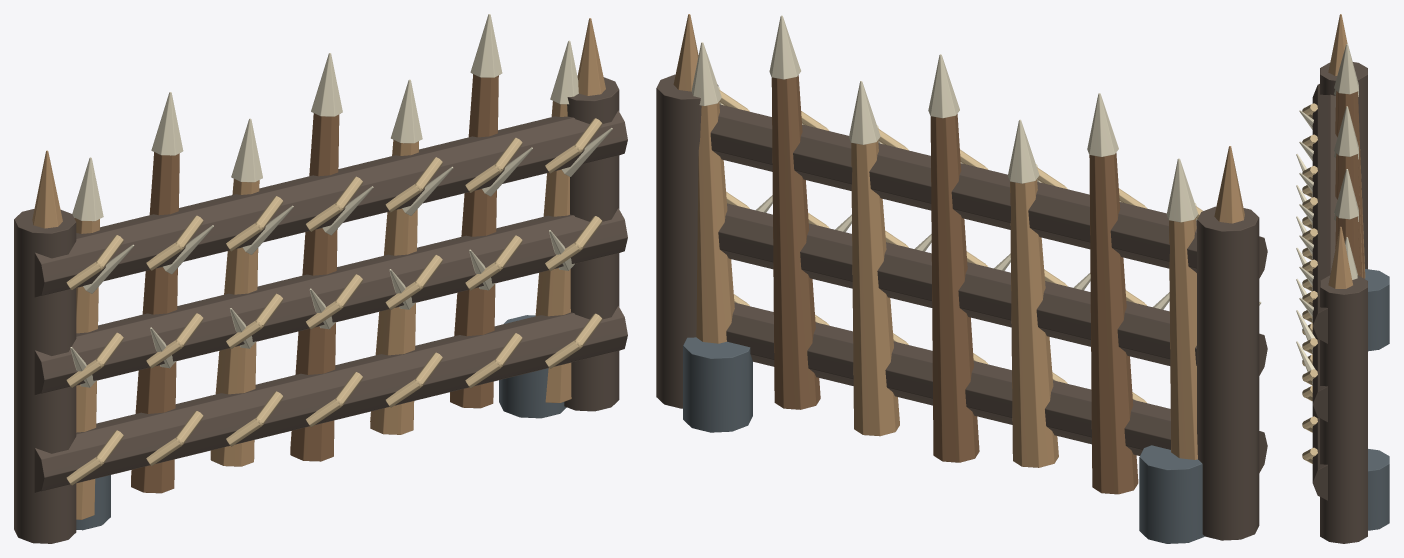
File: 16_Wooden_Spike_Barricade.fbx
The picture shows the model from 3 angles, left to right: view 1: azimuth 30°, elevation 25°; view 2: azimuth 150°, elevation 25°; view 3: azimuth 270°, elevation 25°; orthographic projection. The views are drawn at different scales.
Parts seen in each view (by area): view 1: 16_Wooden_Spike_Barricade; view 2: 16_Wooden_Spike_Barricade; view 3: 16_Wooden_Spike_Barricade.
Part boxes in pixels (<box>): 16_Wooden_Spike_Barricade: <box>14,14,627,543</box>; 16_Wooden_Spike_Barricade: <box>656,14,1267,543</box>; 16_Wooden_Spike_Barricade: <box>1296,14,1389,543</box>.
Bounding box in the file's own units: 3.52 × 2.31 × 0.5948.
